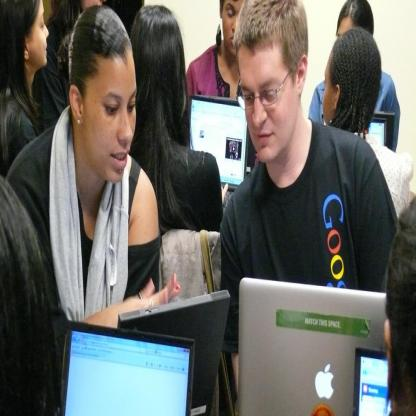board: (239, 274, 387, 416), (118, 288, 230, 416), (59, 319, 195, 415), (190, 93, 250, 215), (352, 347, 391, 415), (320, 112, 387, 148), (373, 110, 394, 151)
